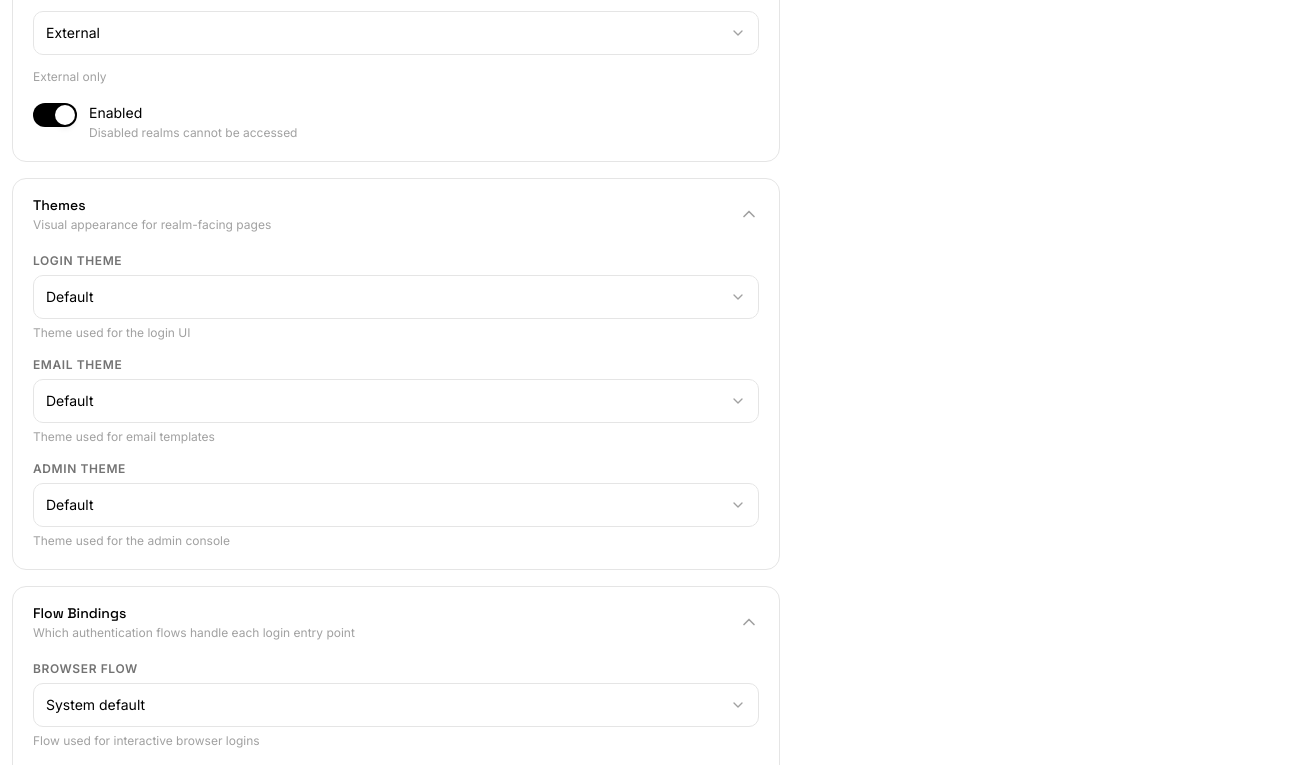
Test: RealmSettingsPage › changes email theme in general tab
(page scrolled)
Click the button named "Email Theme" at (70, 400), box [33,378,759,422]
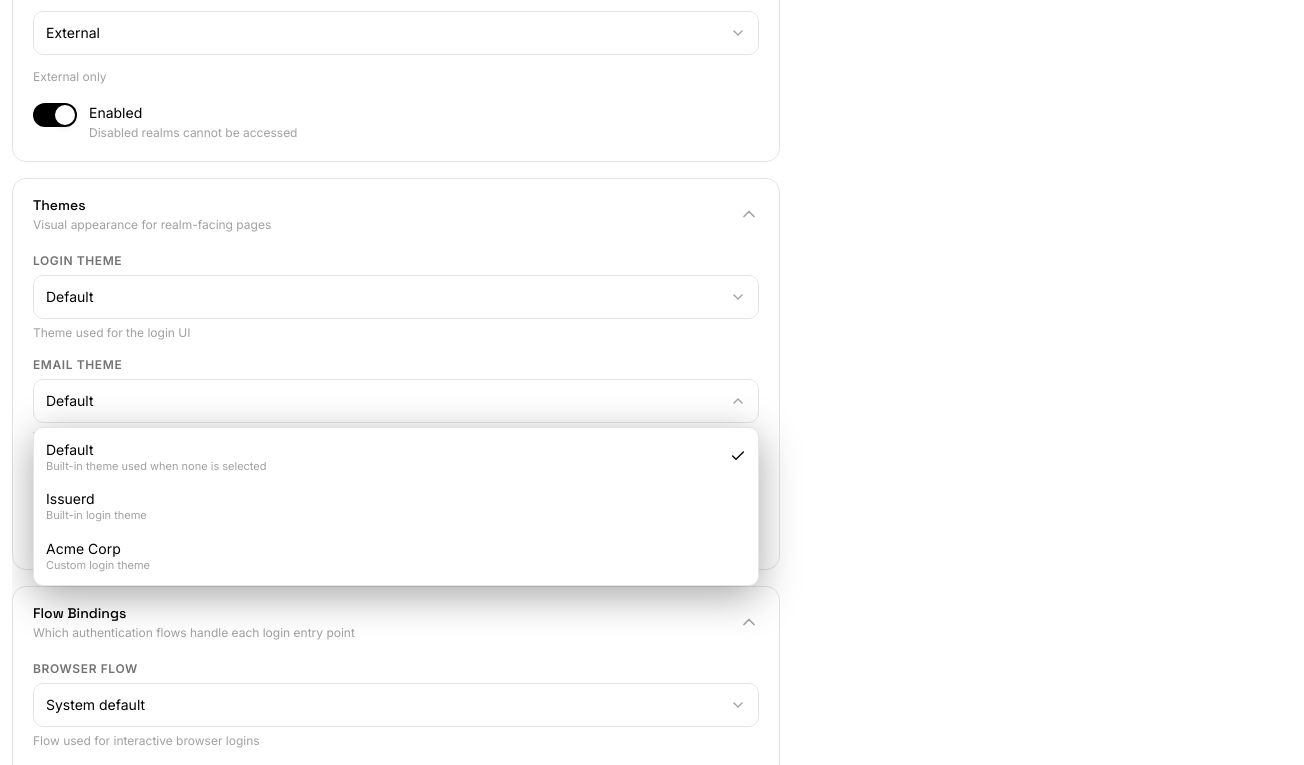
Click the text "Issuerd" at (70, 499), box [46,490,95,507]
(page scrolled)
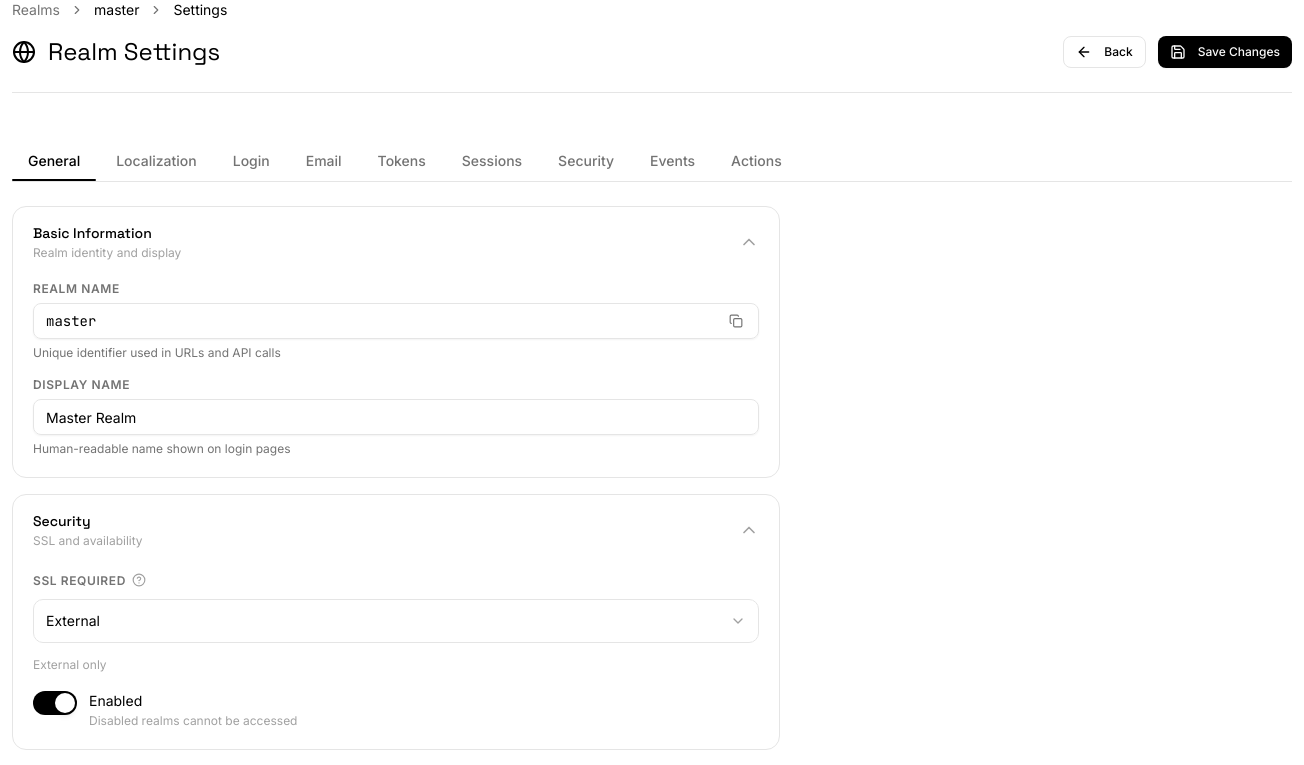
Now the button "Save Changes" is enabled, box [1158,36,1292,68]
